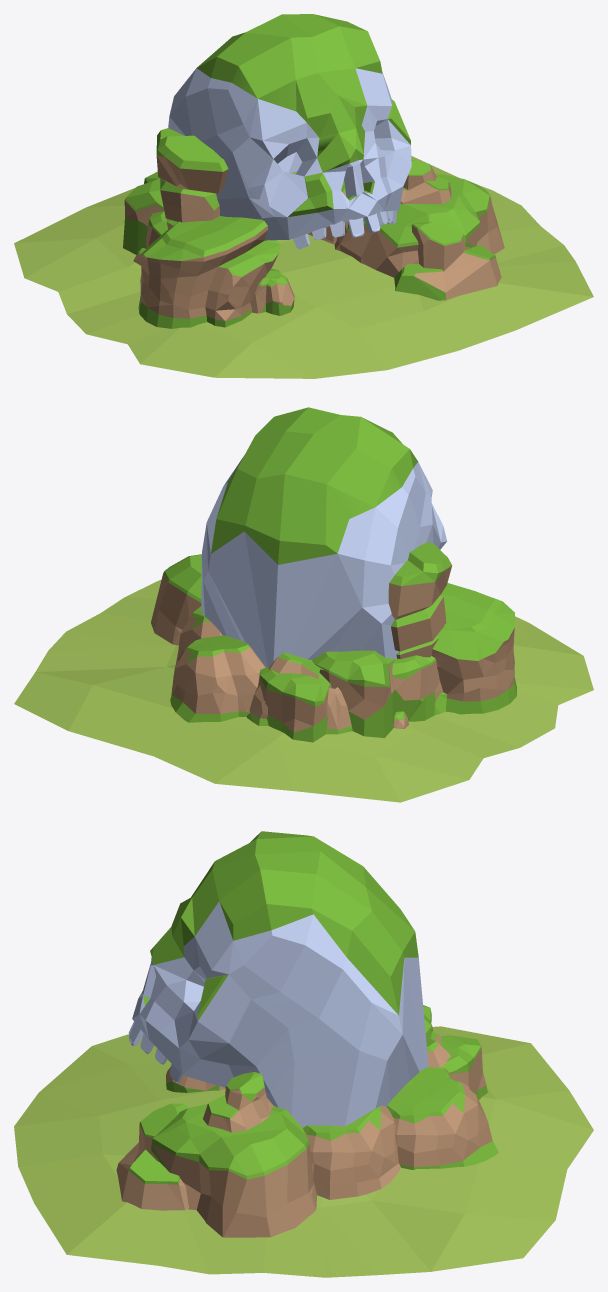
The model's file is Skull Cave_3.fbx.
The picture shows the model from 3 angles, top to bottom: view 1: azimuth 30°, elevation 25°; view 2: azimuth 150°, elevation 25°; view 3: azimuth 270°, elevation 25°; orthographic projection. The views are drawn at different scales.
Visible parts, largest first — view 1: Skull Cave_3; view 2: Skull Cave_3; view 3: Skull Cave_3.
Boxes of the visible parts, box(x1,y1,x2,y2) form: Skull Cave_3: box(14, 14, 593, 378); Skull Cave_3: box(14, 407, 593, 802); Skull Cave_3: box(14, 831, 593, 1277).
Size of the model in its own units: 43.38 by 23.12 by 41.2.
